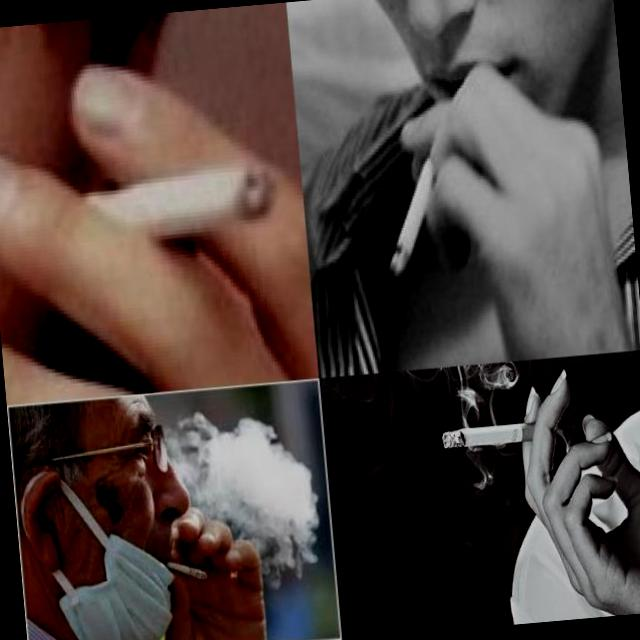cigarette: (47, 162, 280, 255), (378, 126, 453, 274), (439, 419, 558, 452), (162, 556, 208, 584)
